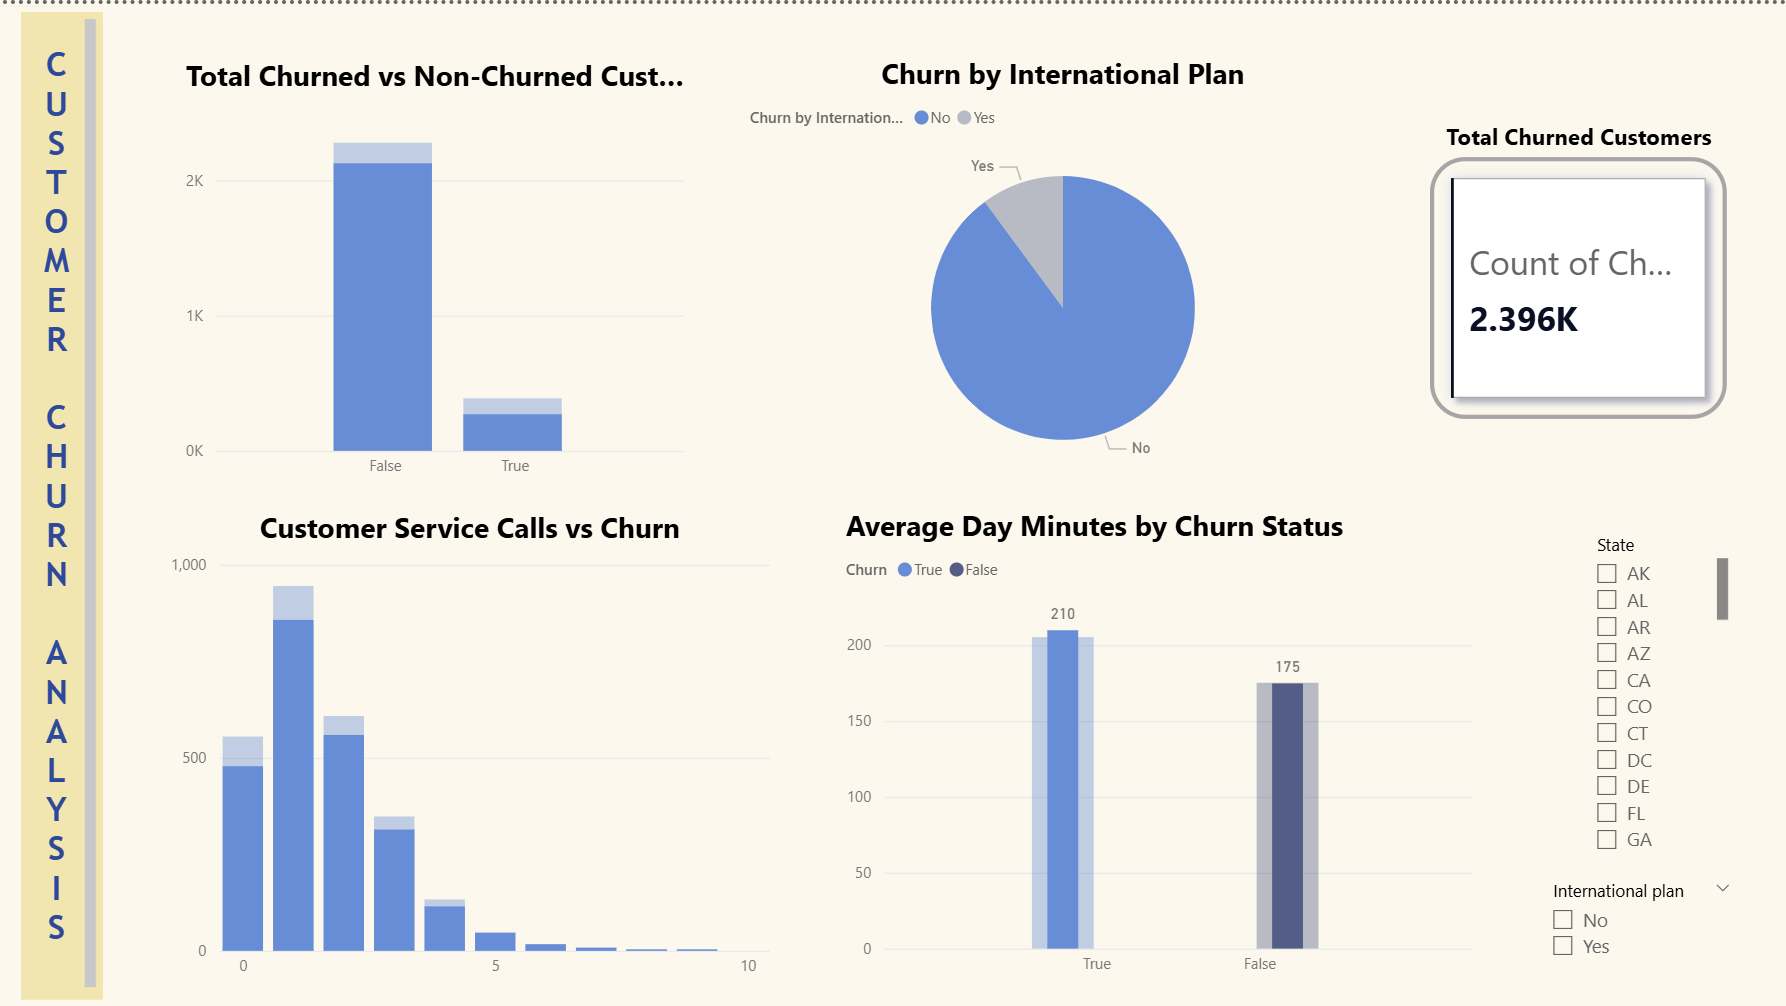

The dashboard page shown, as its layout file describes it:
{"tool":"powerbi","page":{"name":"Page 1","canvas":[1280,720],"ordinal":0},"visuals":[{"type":"clusteredColumnChart","title":"Total Churned vs Non-Churned Customers","fields":{"Category":["churn-bigml-80.Churn"],"Y":["CountNonNull(churn-bigml-80.Churn)"]},"box":[128.6,37.1,365.7,310],"z":0},{"type":"pieChart","title":"Churn by International Plan","fields":{"Category":["churn-bigml-80.International plan"],"Y":["CountNonNull(churn-bigml-80.Churn)"]},"box":[531.4,35.7,457.1,310],"z":1000},{"type":"clusteredColumnChart","title":"Customer Service Calls vs Churn","fields":{"Category":["churn-bigml-80.Customer service calls"],"Y":["CountNonNull(churn-bigml-80.Churn)"]},"box":[117.1,360,438.6,344.3],"z":2000},{"type":"clusteredColumnChart","title":"Average Day Minutes by Churn Status","fields":{"Category":["churn-bigml-80.Churn"],"Y":["Avg(churn-bigml-80.Total day minutes)"],"Series":["churn-bigml-80.Churn"]},"box":[600,358.6,457.1,344.3],"z":3000},{"type":"cardVisual","title":"Total Churned Customers","fields":{"Data":["CountNonNull(churn-bigml-80.Churn)"]},"box":[1017.1,82.9,222.9,218.6],"z":4000},{"type":"textbox","box":[15.7,5.7,58.6,705.7],"z":5000},{"type":"slicer","fields":{"Values":["churn-bigml-80.State"]},"box":[1128.6,372.9,111.4,235.7],"z":6000},{"type":"slicer","fields":{"Values":["churn-bigml-80.International plan"]},"box":[1097.1,620,151.4,72.9],"z":6001}]}

Visuals, with their boxes in screenshot pixels (x1, y1, x2, y2), scaled from the page's 1280x720 canvas onto the 1786x1006 screenshot:
"Total Churned vs Non-Churned Customers" clusteredColumnChart: (x1=179, y1=52, x2=690, y2=485)
"Churn by International Plan" pieChart: (x1=741, y1=50, x2=1379, y2=483)
"Customer Service Calls vs Churn" clusteredColumnChart: (x1=163, y1=503, x2=775, y2=984)
"Average Day Minutes by Churn Status" clusteredColumnChart: (x1=837, y1=501, x2=1475, y2=982)
"Total Churned Customers" cardVisual: (x1=1419, y1=116, x2=1730, y2=421)
textbox: (x1=22, y1=8, x2=104, y2=994)
slicer - churn-bigml-80.State: (x1=1575, y1=521, x2=1730, y2=850)
slicer - churn-bigml-80.International plan: (x1=1531, y1=866, x2=1742, y2=968)
